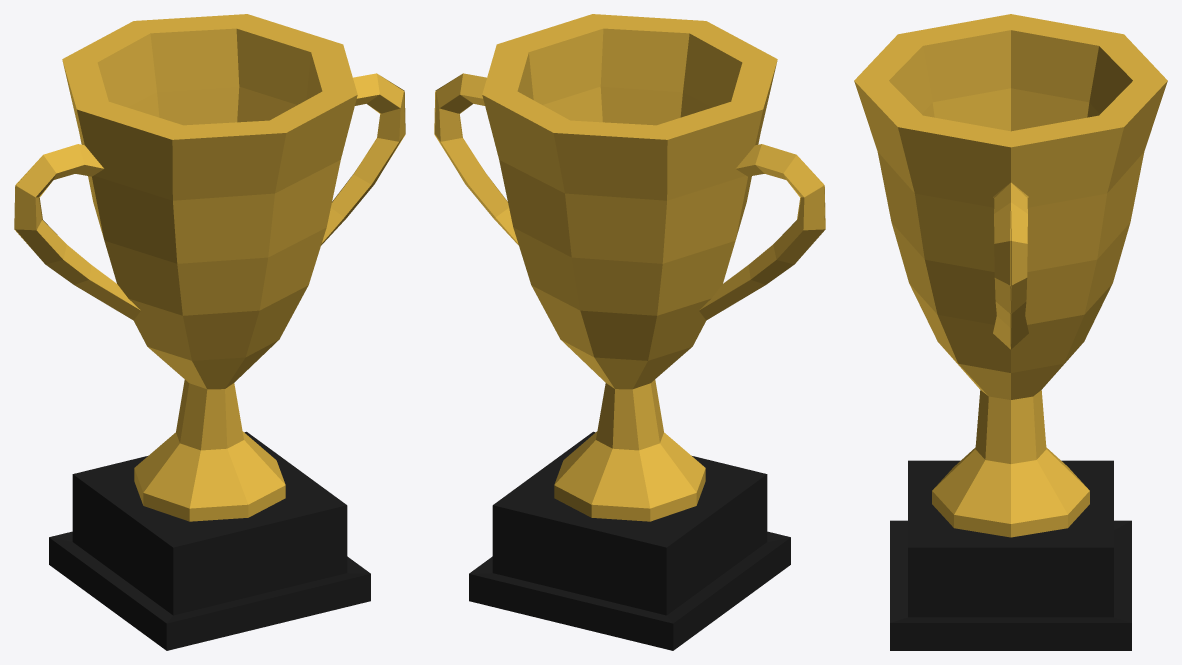
The model's file is trophy.fbx.
3 renders of one model, left to right at view 1: azimuth 30°, elevation 25°; view 2: azimuth 150°, elevation 25°; view 3: azimuth 270°, elevation 25°, orthographic. The views are drawn at different scales.
Parts seen in each view (by area): view 1: Cube; view 2: Cube; view 3: Cube.
Boxes of the visible parts, x1,y1,x2,y2 form: Cube: [14, 14, 405, 650]; Cube: [434, 14, 825, 650]; Cube: [854, 14, 1167, 650].
Size of the model in its own units: 159 by 197 by 108.
